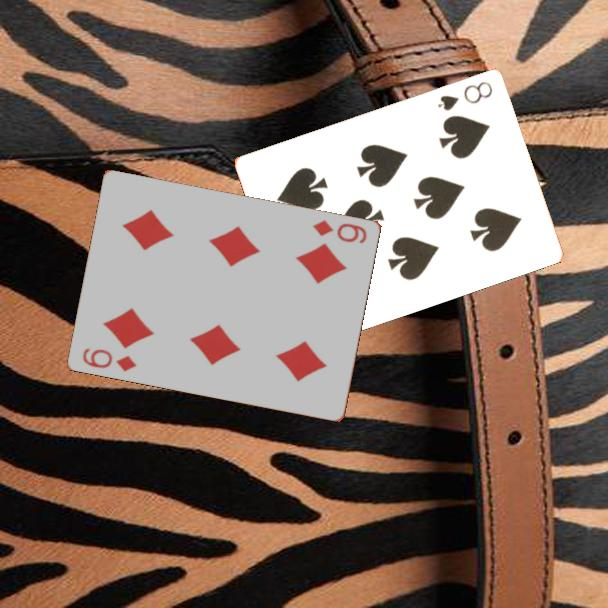d06: (79, 344, 140, 374), (310, 216, 370, 246)
s08: (434, 77, 496, 113)
